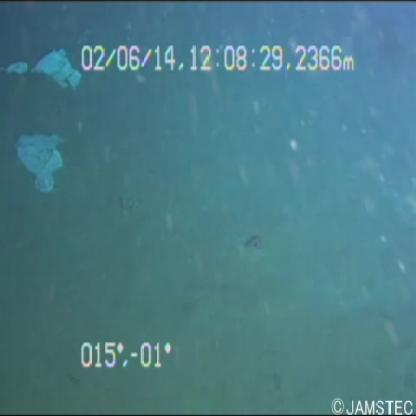Rác: (5, 42, 85, 106), (8, 128, 72, 192)
